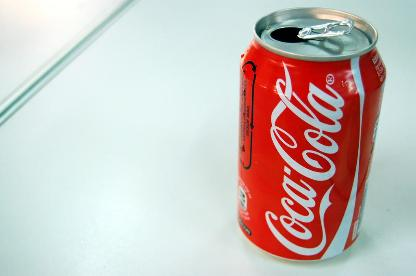Can: (236, 4, 386, 264)
